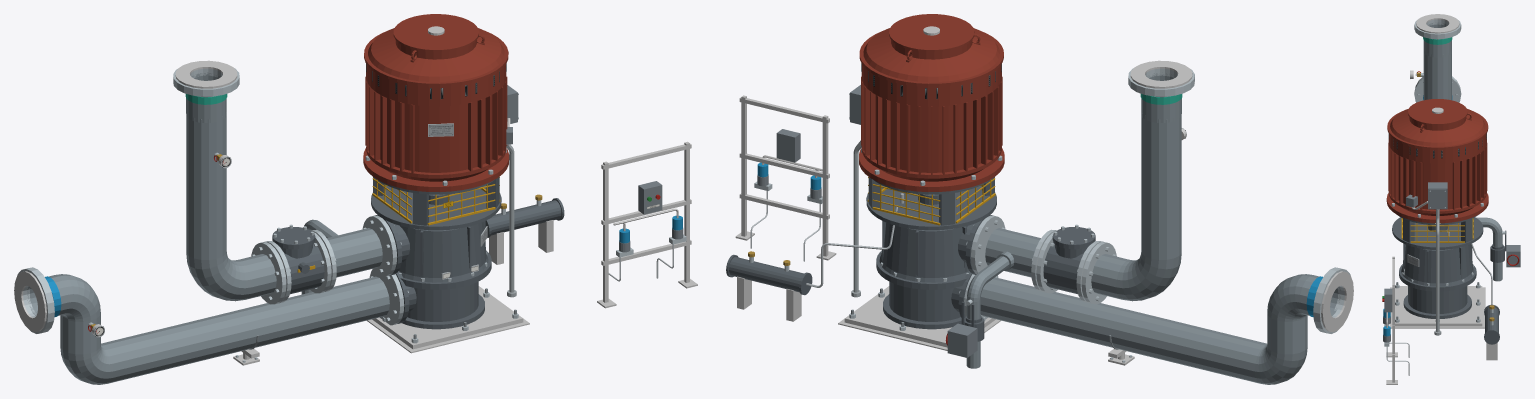
File: inventory.obj
The picture shows the model from 3 angles, left to right: view 1: azimuth 30°, elevation 25°; view 2: azimuth 150°, elevation 25°; view 3: azimuth 270°, elevation 25°; orthographic projection. The views are drawn at different scales.
Bounding box in the file's own units: 0.9 × 0.4031 × 0.2439.
